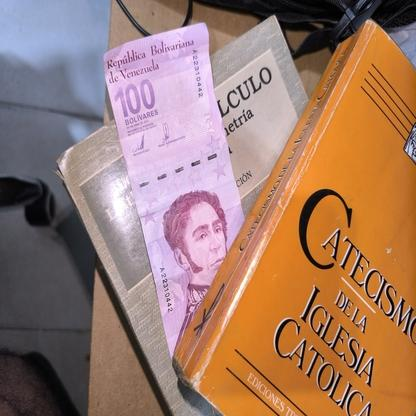vef_front: (102, 22, 246, 359)
